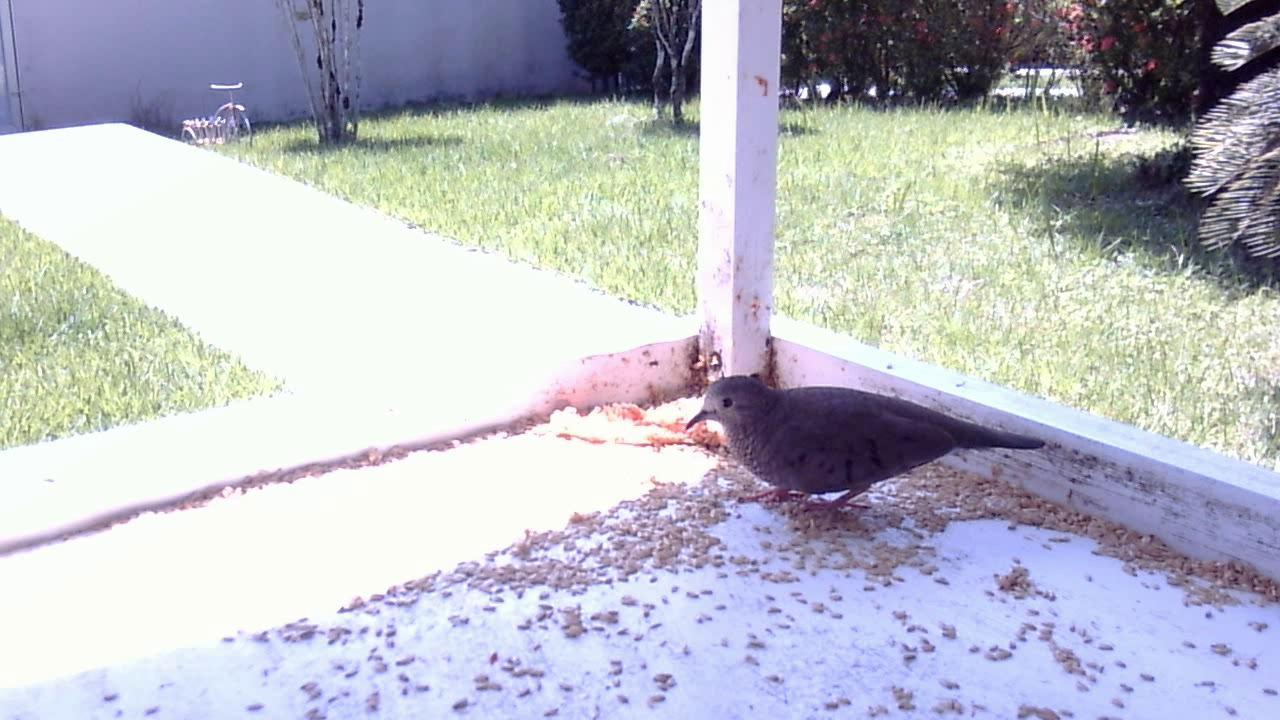rolinha: (676, 370, 1053, 530)
